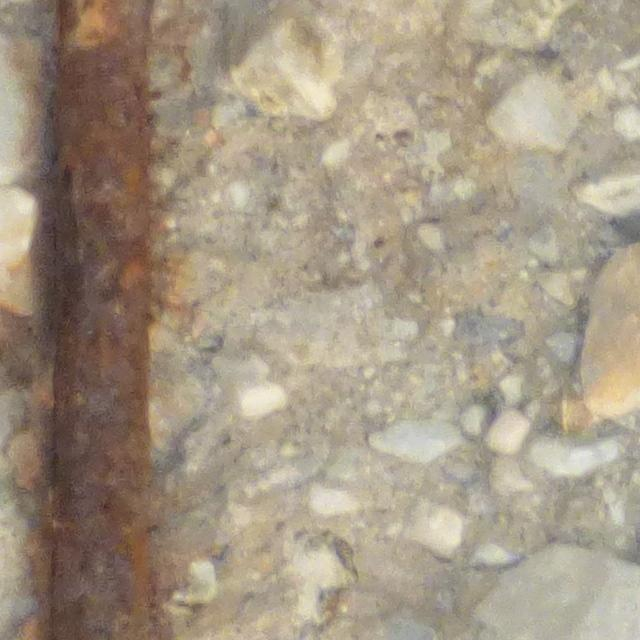Rust: (42, 1, 167, 639)
